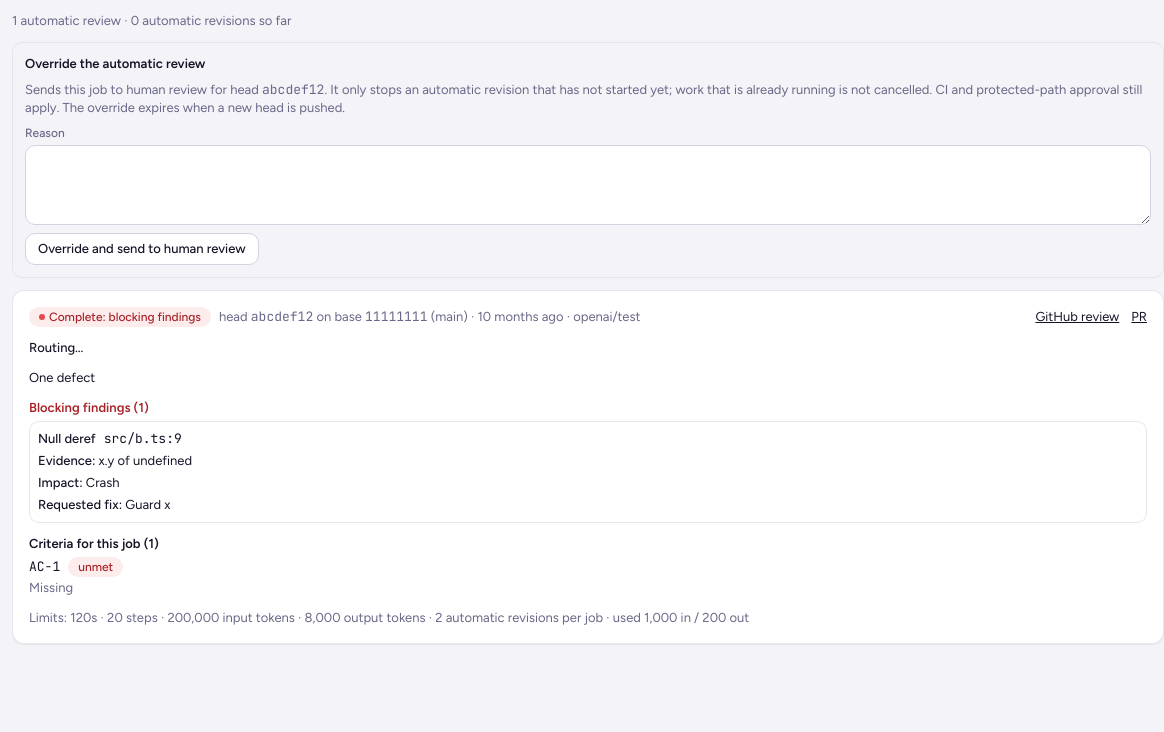
override › handles a 403 without claiming success, and refreshes
The width and height of the screenshot is (1164, 732).
Type "because" into the text box labelled "Reason".
click(588, 185); type("because")  # box [25, 145, 1151, 225]
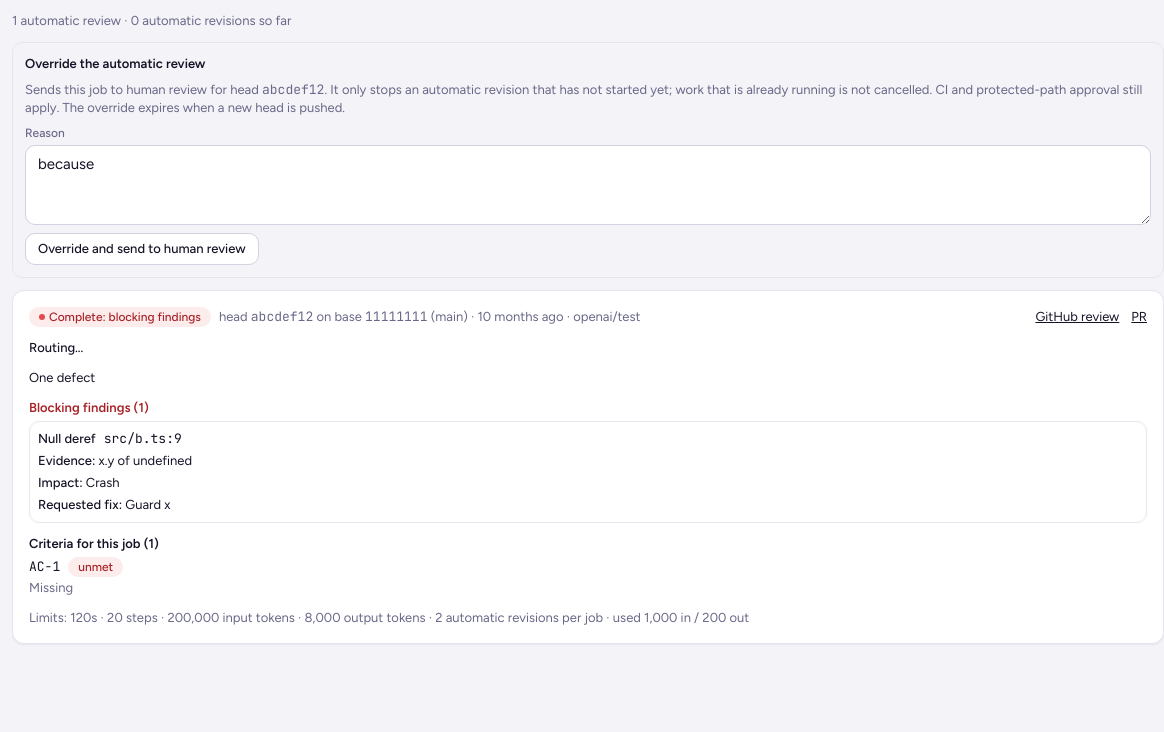
Click the button "Override and send to human review".
click(142, 249)  # box [25, 233, 258, 265]
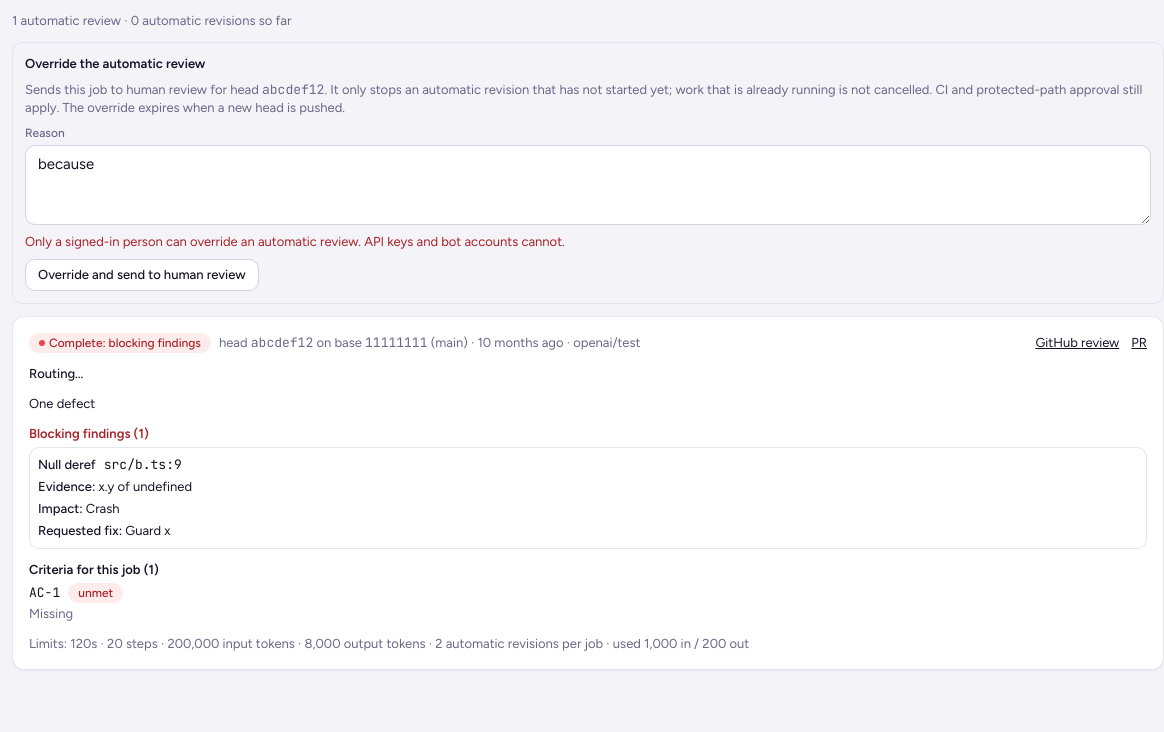
Check: the message shows "Only a signed-in person can override", box [25, 234, 565, 249]
